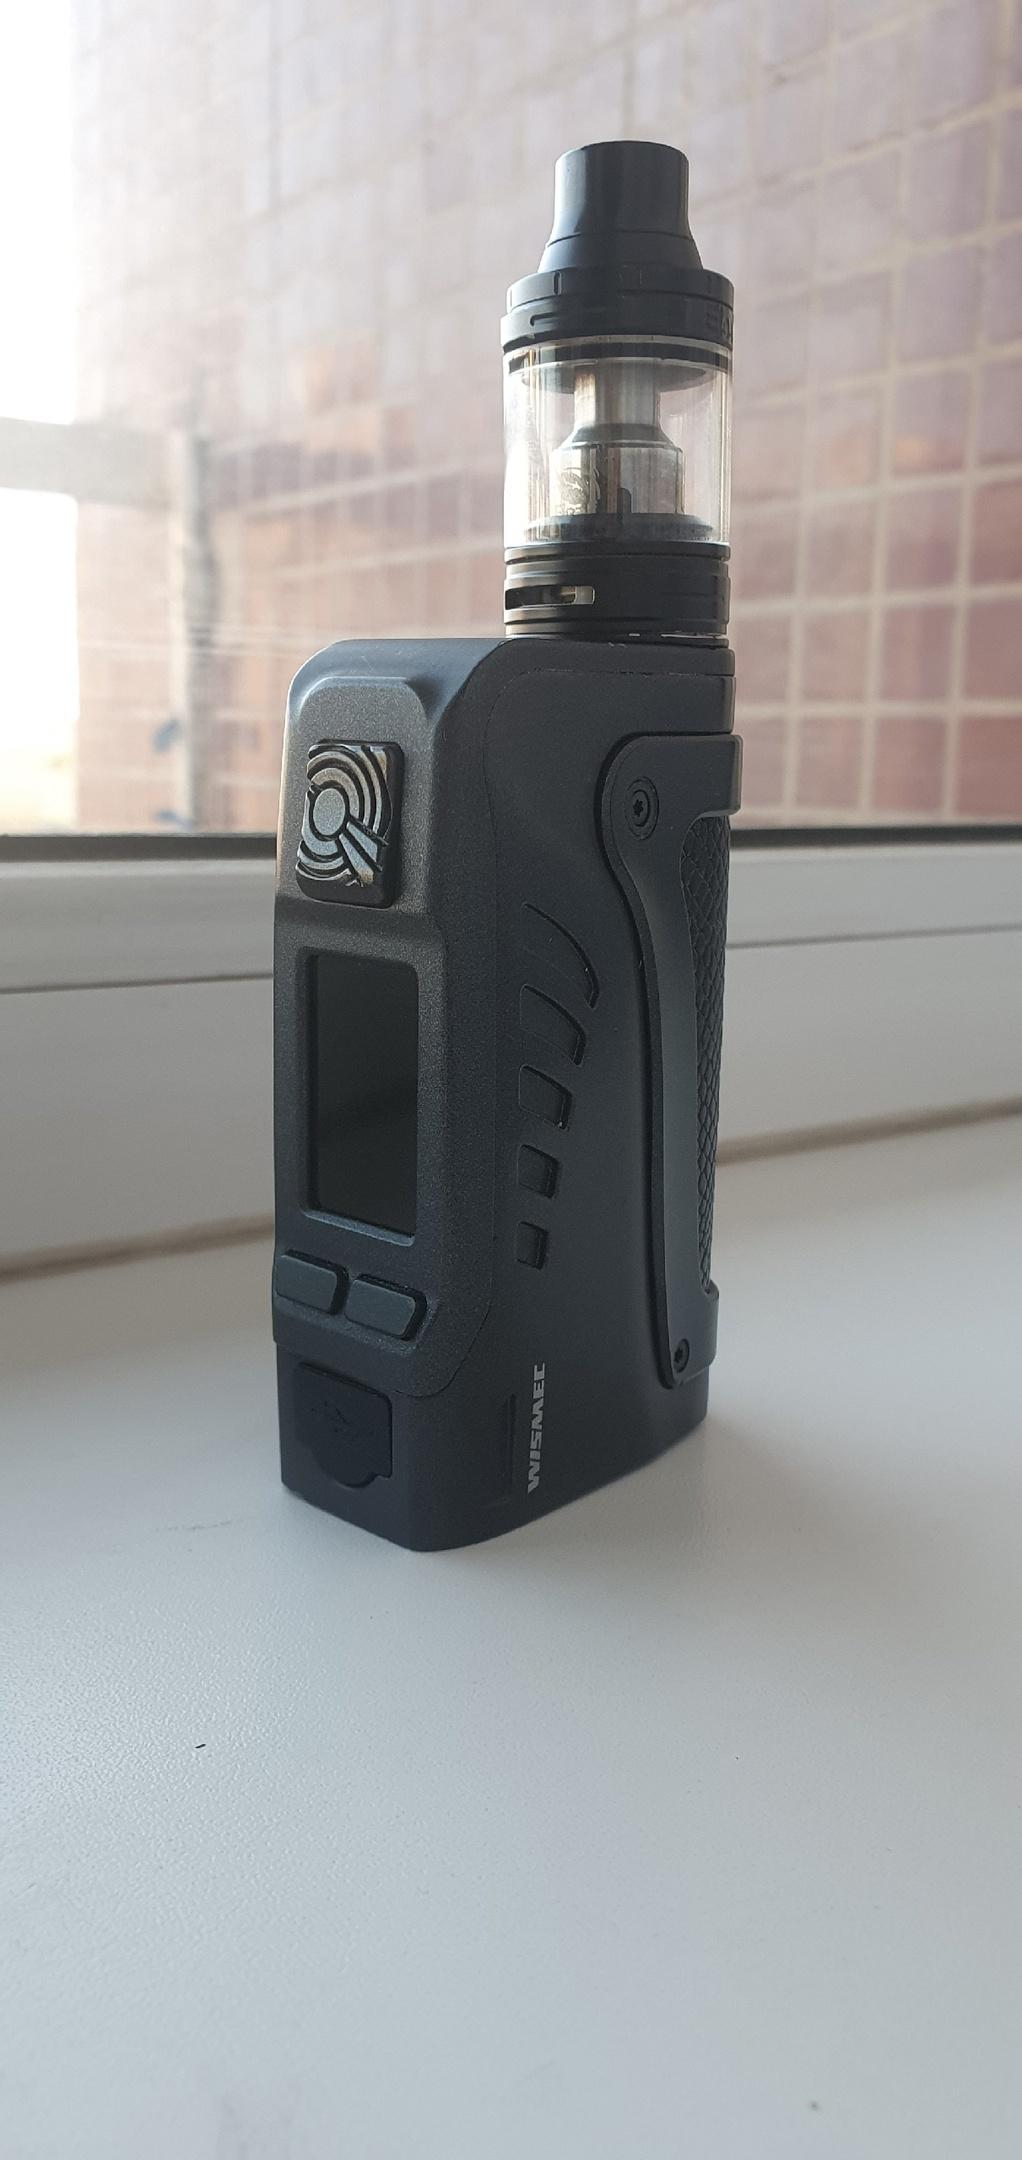Vape: (273, 141, 741, 1548)
